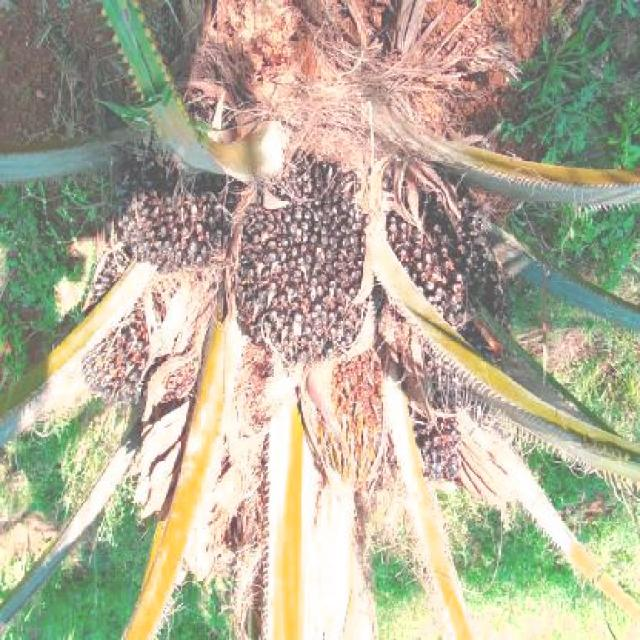palm-oil: (227, 146, 385, 408), (369, 168, 518, 345), (123, 137, 245, 279), (89, 239, 189, 401), (376, 343, 482, 472)
